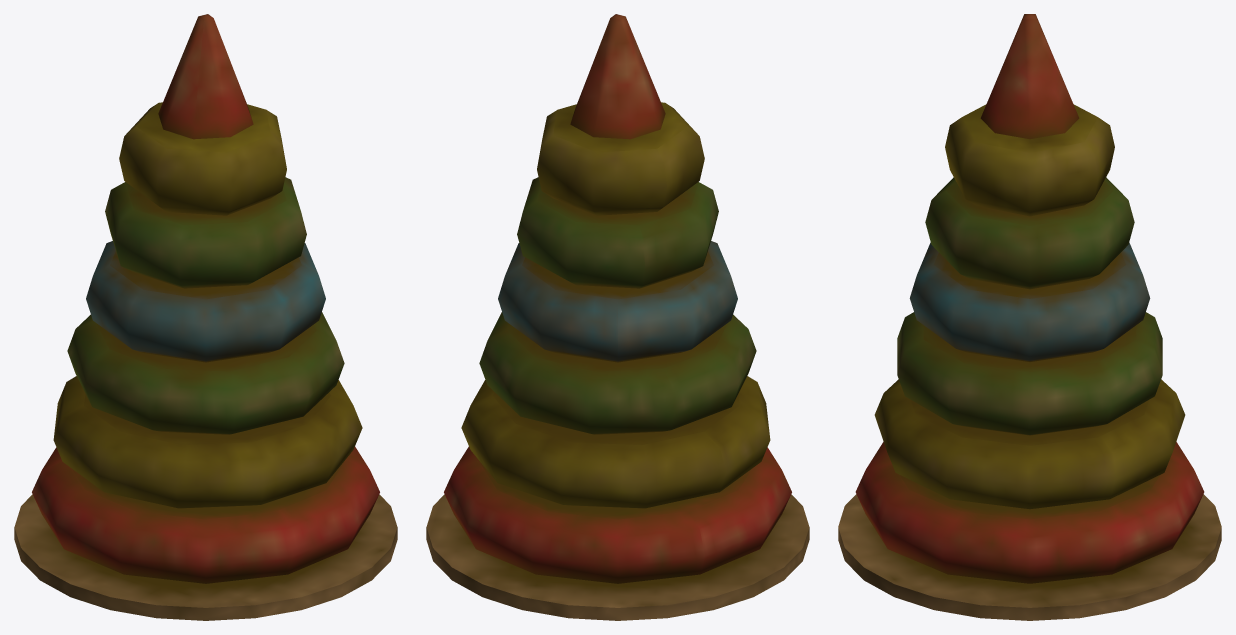
File: toy_pyramid.glb
3 views of the same model, side by side, from view 1: azimuth 30°, elevation 25°; view 2: azimuth 150°, elevation 25°; view 3: azimuth 270°, elevation 25° (orthographic).
Parts seen in each view (by area): view 1: Torus.003_low, Torus.004_low, Torus.005_low, Circle_low, Torus.006_low, Torus.002_low, Torus_low, Circle.001_low; view 2: Torus.003_low, Torus.004_low, Torus.005_low, Circle_low, Torus.006_low, Torus.002_low, Torus_low, Circle.001_low; view 3: Torus.003_low, Torus.004_low, Torus.005_low, Circle_low, Torus.006_low, Torus.002_low, Torus_low, Circle.001_low.
Boxes of the visible parts, x1,y1,x2,y2 form: Torus.003_low: (32,446,379,583); Torus.004_low: (53,376,362,508); Torus.005_low: (67,312,344,434); Circle_low: (14,494,397,620); Torus.006_low: (86,241,325,362); Torus.002_low: (105,177,306,288); Torus_low: (119,102,286,215); Circle.001_low: (158,14,253,139); Torus.003_low: (444,446,791,583); Torus.004_low: (461,376,770,508); Torus.005_low: (479,312,756,434); Circle_low: (426,494,809,620); Torus.006_low: (498,241,737,362); Torus.002_low: (517,177,718,288); Torus_low: (537,102,704,215); Circle.001_low: (570,14,665,139); Torus.003_low: (855,442,1204,583); Torus.004_low: (874,379,1185,509); Torus.005_low: (897,312,1162,435); Circle_low: (838,494,1221,620); Torus.006_low: (909,242,1150,362); Torus.002_low: (925,177,1134,289); Torus_low: (945,104,1114,216); Circle.001_low: (980,14,1079,139).
Size of the model in its own units: 2.61 by 3.94 by 2.61.
Materials: 6 (6 with a texture image).
